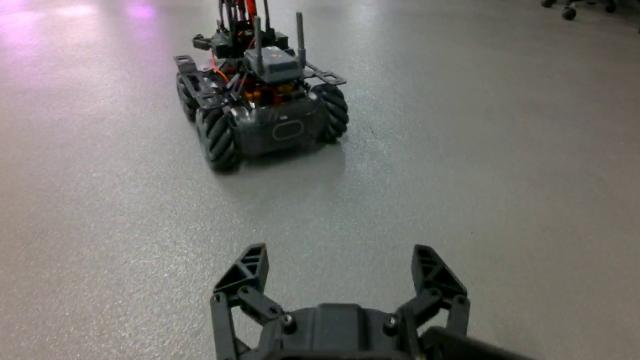robot: (171, 0, 350, 176)
